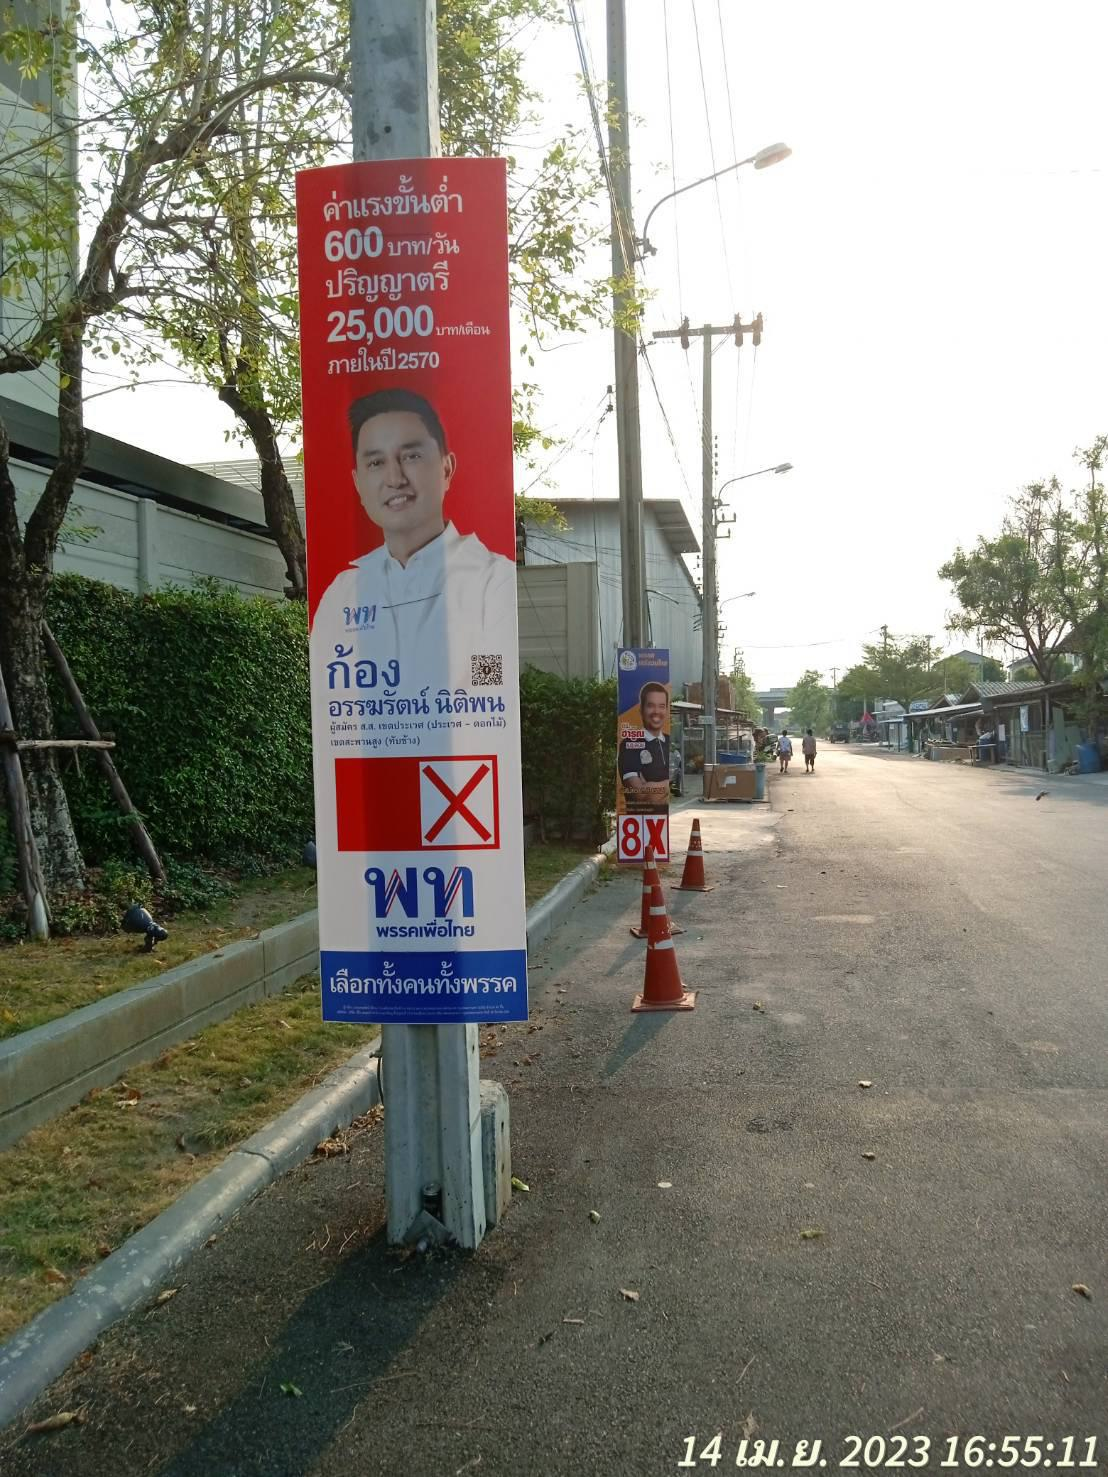Banner: (287, 162, 523, 1018), (603, 649, 688, 871)
